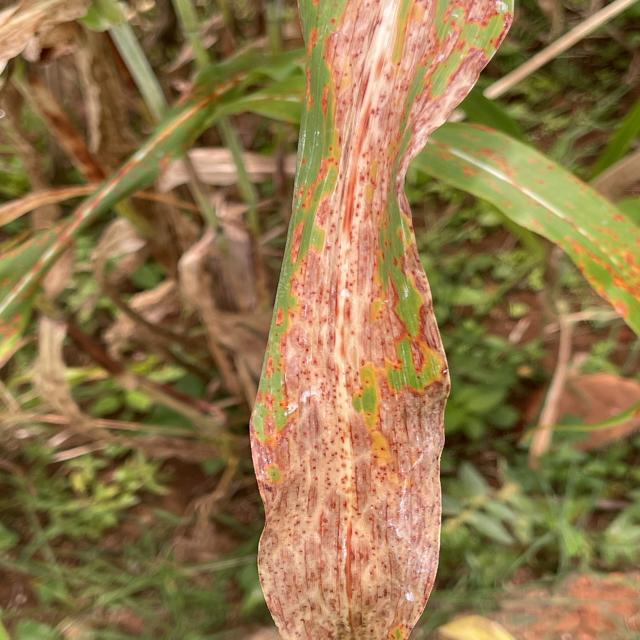millet_rust: (246, 0, 512, 640), (275, 91, 640, 336), (0, 65, 259, 336)
